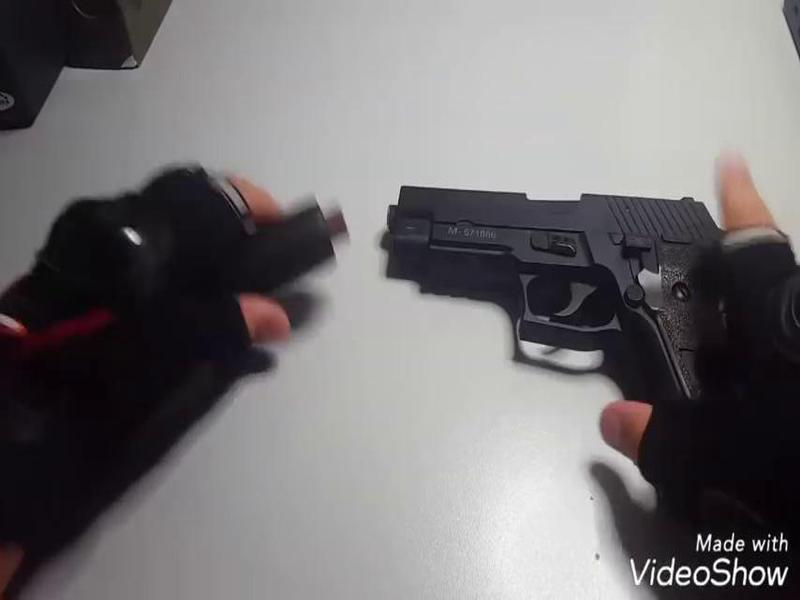Pistola: (357, 162, 760, 445)
